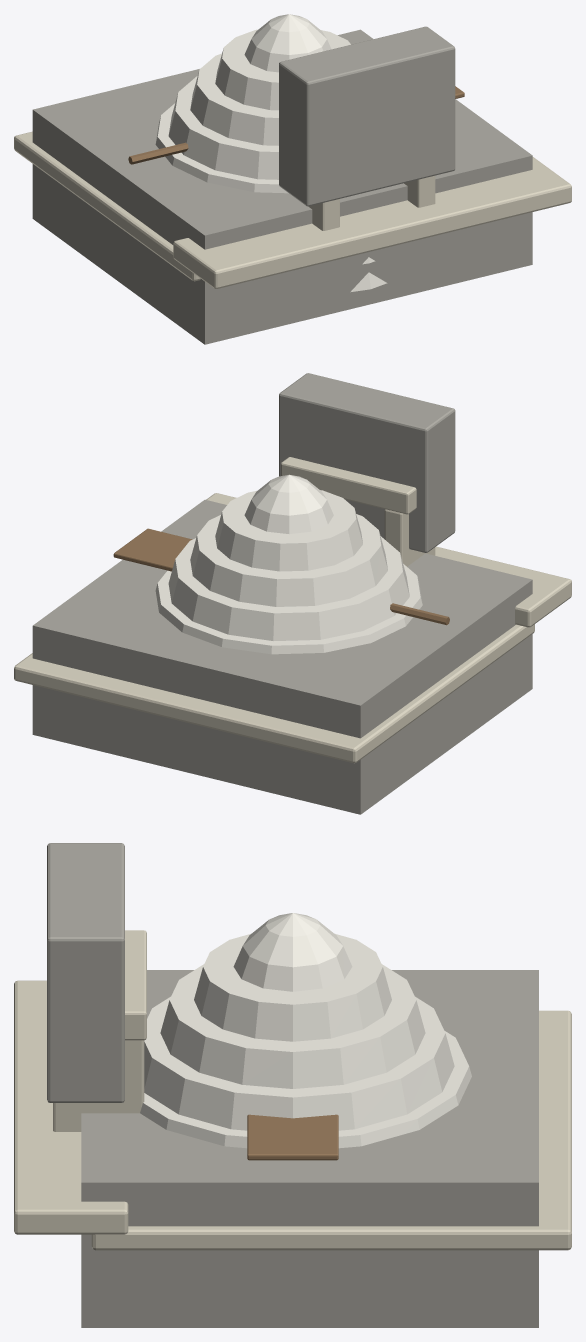
The model's file is monastery_bread_oven.glb.
The picture shows the model from 3 angles, top to bottom: view 1: azimuth 30°, elevation 25°; view 2: azimuth 150°, elevation 25°; view 3: azimuth 270°, elevation 25°; orthographic projection. The views are drawn at different scales.
Parts seen in each view (by area): view 1: world; view 2: world; view 3: world.
Boxes of the visible parts, x1,y1,x2,y2 form: world: (14,14,571,344); world: (14,373,571,814); world: (14,843,571,1327).
Bounding box in the file's own units: 1.97 × 1.31 × 2.
